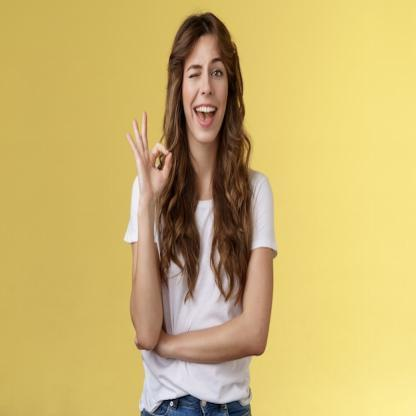ok: (125, 106, 174, 206)
